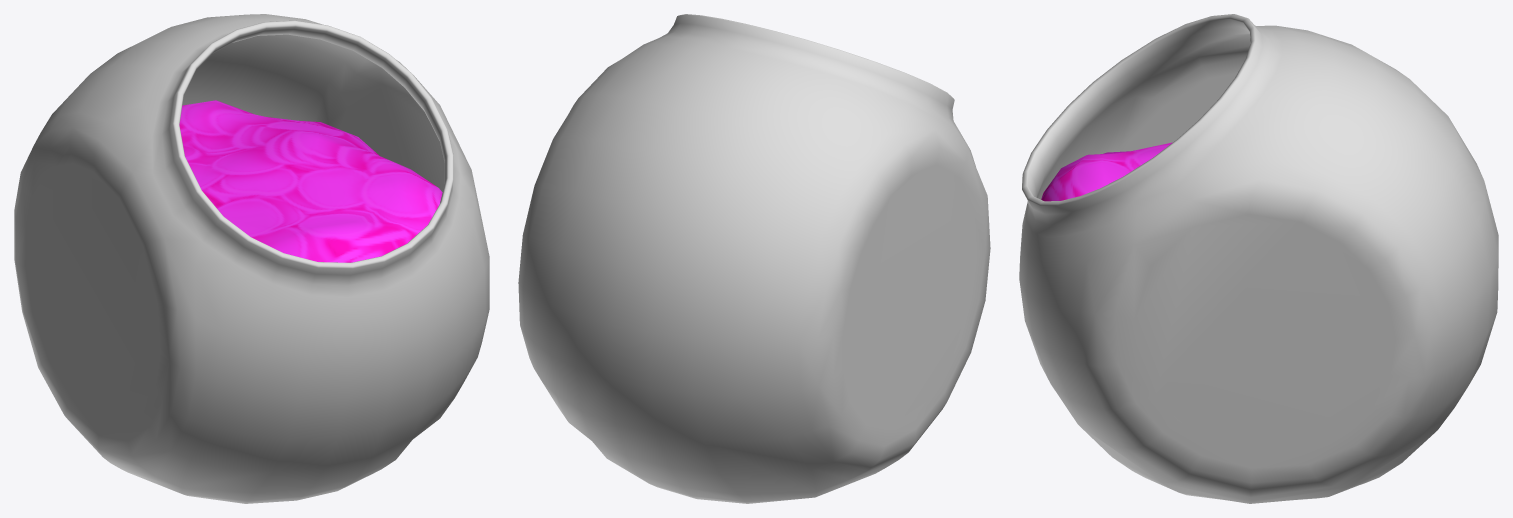
The model's file is BuffetCandy02_5.FBX.
3 views of the same model, side by side, from view 1: azimuth 30°, elevation 25°; view 2: azimuth 150°, elevation 25°; view 3: azimuth 270°, elevation 25° (orthographic). The views are drawn at different scales.
Parts seen in each view (by area): view 1: BuffetCandy02_5; view 2: BuffetCandy02_5; view 3: BuffetCandy02_5.
Part boxes in pixels (box(x1,y1,x2,y2)): BuffetCandy02_5: box(14, 14, 489, 503); BuffetCandy02_5: box(518, 14, 990, 503); BuffetCandy02_5: box(1019, 14, 1498, 503).
Size of what is drawn, in the model's own units: 0.2283 by 0.2923 by 0.3064.
